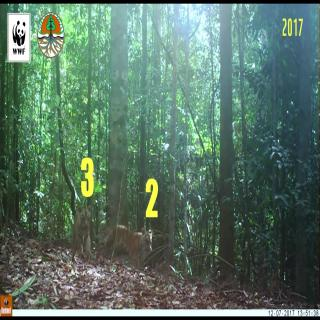Tiger: (106, 212, 156, 276), (68, 196, 96, 254)
